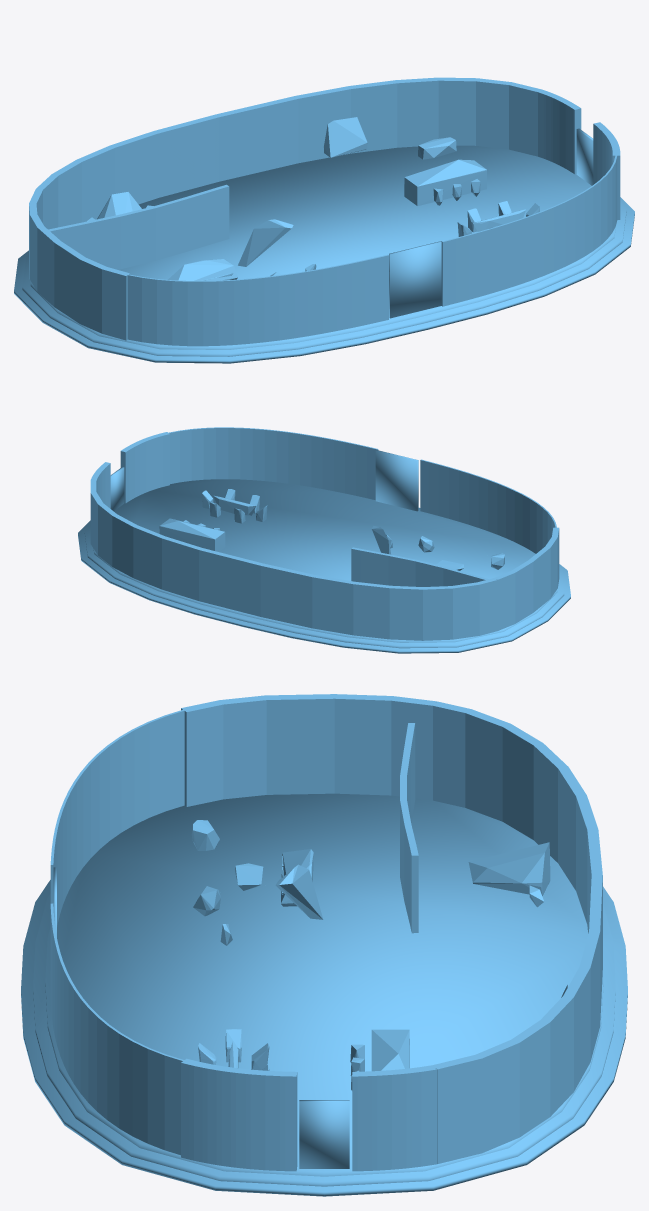
The model's file is Dune_PHYS.dae.
3 views of the same model, one above another, from view 1: azimuth 30°, elevation 25°; view 2: azimuth 150°, elevation 25°; view 3: azimuth 270°, elevation 25° (orthographic). The views are drawn at different scales.
Visible parts, largest first — view 1: Dune_Floor_PHYS, Dune_Wall_N_PHYS, Dune_Glass_S_PHYS, Dune_Partition_PHYS, Dune_Wall_W_PHYS, Dune_Wall_E_PHYS, Dune_Door_S_PHYS, Dune_Island_PHYS, Dune_Vanity_PHYS, Dune_Arc_Lamp_PHYS, Dune_Sofa_PHYS, Dune_Door_E_PHYS (+2 smaller); view 2: Dune_Floor_PHYS, Dune_Wall_N_PHYS, Dune_Glass_S_PHYS, Dune_Wall_W_PHYS, Dune_Partition_PHYS, Dune_Wall_E_PHYS, Dune_Door_S_PHYS, Dune_Island_PHYS, Dune_Door_E_PHYS, Dune_Dining_Table_PHYS; view 3: Dune_Floor_PHYS, Dune_Wall_N_PHYS, Dune_Glass_S_PHYS, Dune_Wall_W_PHYS, Dune_Wall_E_PHYS, Dune_Door_E_PHYS, Dune_Partition_PHYS, Dune_Bed_PHYS, Dune_Island_PHYS, Dune_Arc_Lamp_PHYS, Dune_Sofa_PHYS.
Boxes of the visible parts, <box> form: Dune_Floor_PHYS: <box>14,145,634,363</box>; Dune_Wall_N_PHYS: <box>29,77,541,278</box>; Dune_Glass_S_PHYS: <box>127,155,617,346</box>; Dune_Partition_PHYS: <box>48,184,229,269</box>; Dune_Wall_W_PHYS: <box>30,214,129,340</box>; Dune_Wall_E_PHYS: <box>538,89,620,219</box>; Dune_Door_S_PHYS: <box>389,241,441,318</box>; Dune_Island_PHYS: <box>404,159,486,206</box>; Dune_Vanity_PHYS: <box>324,117,367,157</box>; Dune_Arc_Lamp_PHYS: <box>238,219,293,266</box>; Dune_Sofa_PHYS: <box>168,259,237,280</box>; Dune_Door_E_PHYS: <box>576,128,593,185</box>; Dune_Floor_PHYS: <box>78,479,570,653</box>; Dune_Wall_N_PHYS: <box>90,480,497,640</box>; Dune_Glass_S_PHYS: <box>168,427,556,553</box>; Dune_Wall_W_PHYS: <box>494,527,559,630</box>; Dune_Partition_PHYS: <box>351,547,488,586</box>; Dune_Wall_E_PHYS: <box>90,432,169,508</box>; Dune_Door_S_PHYS: <box>375,450,418,511</box>; Dune_Island_PHYS: <box>159,518,225,551</box>; Dune_Door_E_PHYS: <box>110,467,124,511</box>; Dune_Dining_Table_PHYS: <box>213,495,255,515</box>; Dune_Floor_PHYS: <box>21,793,627,1196</box>; Dune_Wall_N_PHYS: <box>433,701,602,1164</box>; Dune_Glass_S_PHYS: <box>50,710,184,1155</box>; Dune_Wall_W_PHYS: <box>181,694,436,806</box>; Dune_Wall_E_PHYS: <box>181,1058,436,1171</box>; Dune_Door_E_PHYS: <box>299,1100,349,1168</box>; Dune_Partition_PHYS: <box>400,723,418,933</box>; Dune_Bed_PHYS: <box>468,842,550,895</box>; Dune_Island_PHYS: <box>371,1029,409,1071</box>; Dune_Arc_Lamp_PHYS: <box>275,864,323,919</box>; Dune_Sofa_PHYS: <box>281,849,313,906</box>.
Bounding box in the file's own units: 27.8 × 17.8 × 4.34.
